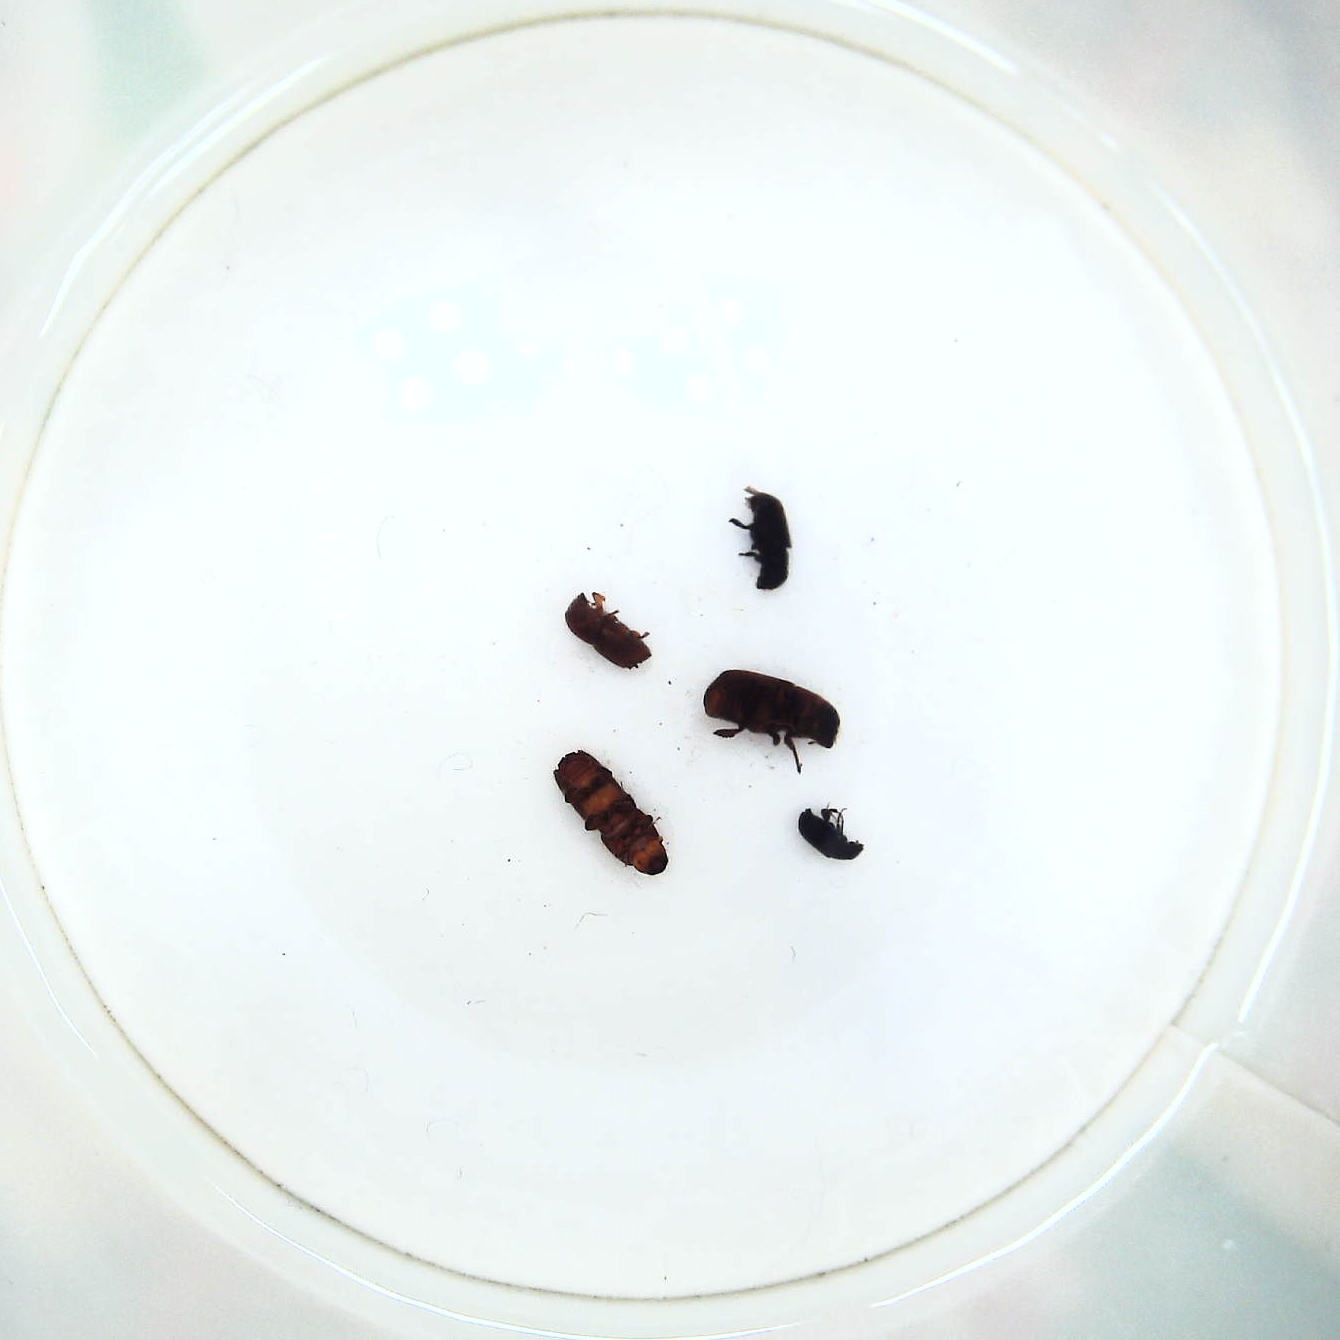Boerner: (549, 749, 671, 885)
Leconte: (706, 663, 842, 773)
armandi: (726, 482, 796, 598)
coleoptera: (791, 803, 864, 868)
linnaeus: (563, 587, 657, 679)
